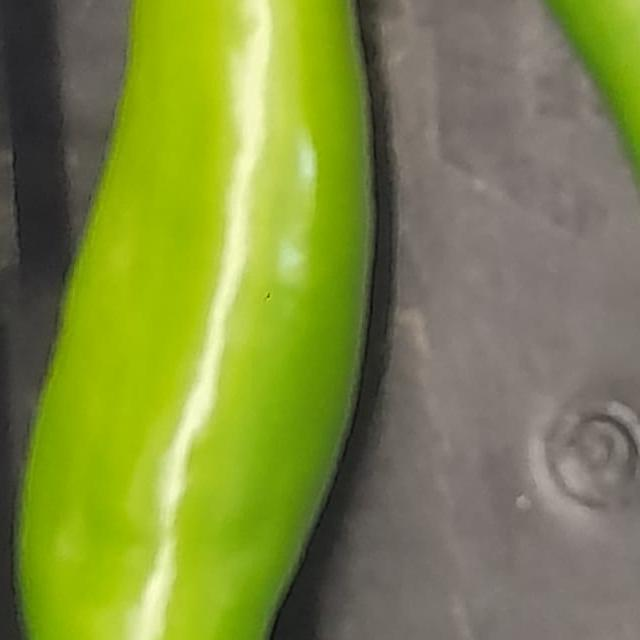chili_pepper: (3, 0, 480, 640), (216, 0, 640, 640)
